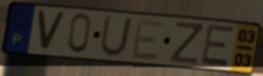0: (66, 12, 93, 56)
E: (199, 23, 237, 68), (130, 19, 165, 62)
U: (97, 15, 134, 59)
V: (35, 8, 68, 53)
Z: (168, 20, 204, 66)
